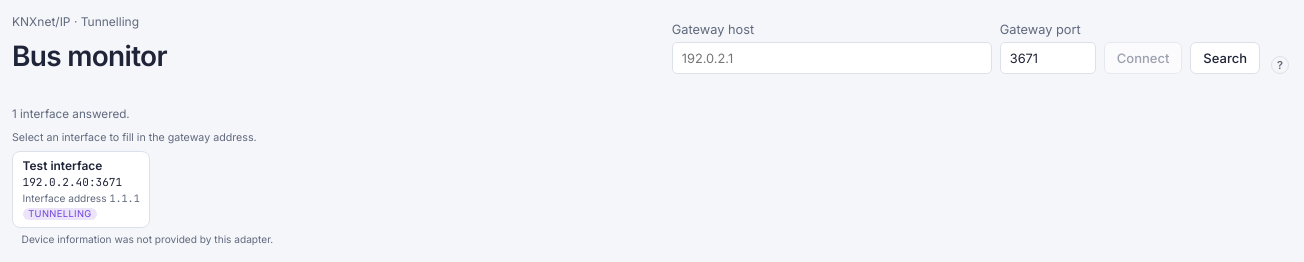
Scenario: keeps a discovered gateway selected before authoritative hydration
What coordinates should you click on to do the following:
click the button with class "bus-discovery-option"
I would click on:
 (81, 189)
Its box is [12,150,150,228].
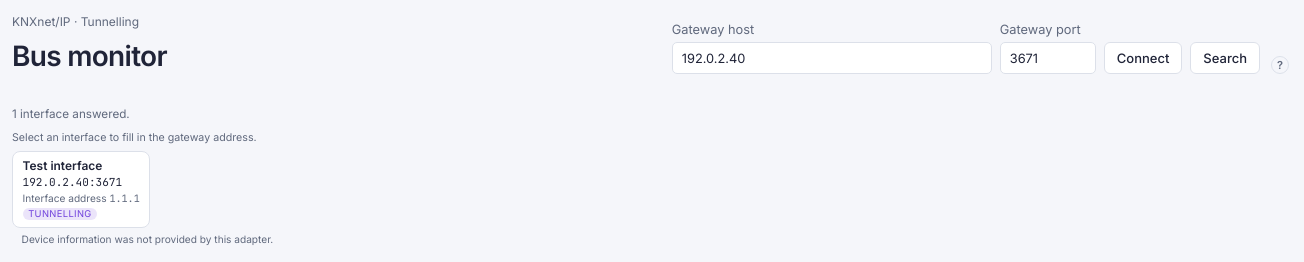
Expected: the field with class "bus-monitor-port" holds "3671", [1000,42,1096,74]
Expected: the field with class "bus-monitor-host" holds "192.0.2.40", [672,42,992,74]
